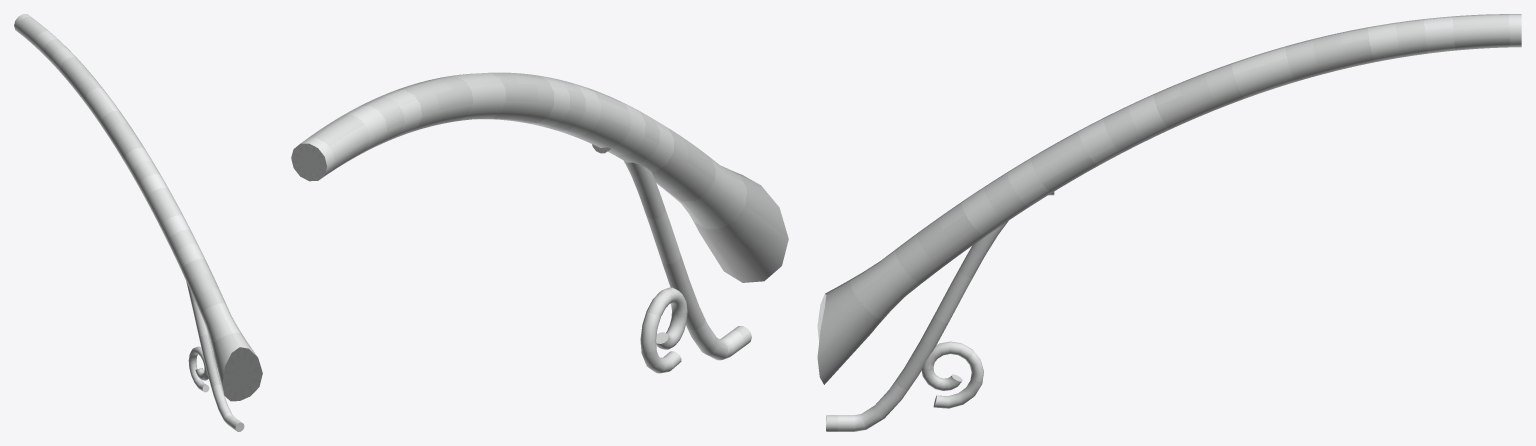
File: luminairearm_anaheim8ft_inv.obj
3 views of the same model, side by side, from view 1: azimuth 30°, elevation 25°; view 2: azimuth 150°, elevation 25°; view 3: azimuth 270°, elevation 25° (orthographic). The views are drawn at different scales.
Parts seen in each view (by area): view 1: luminairearm_anaheim8ft_inv; view 2: luminairearm_anaheim8ft_inv; view 3: luminairearm_anaheim8ft_inv.
Part boxes in pixels (<box>): luminairearm_anaheim8ft_inv: <box>14,14,262,431</box>; luminairearm_anaheim8ft_inv: <box>291,72,788,373</box>; luminairearm_anaheim8ft_inv: <box>817,14,1521,431</box>.
Bounding box in the file's own units: 0.1067 × 0.6516 × 1.
